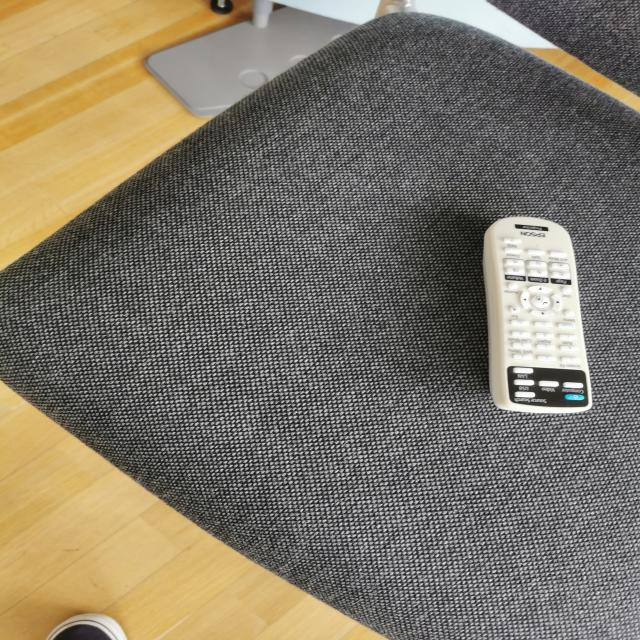remote: (480, 212, 599, 418)
